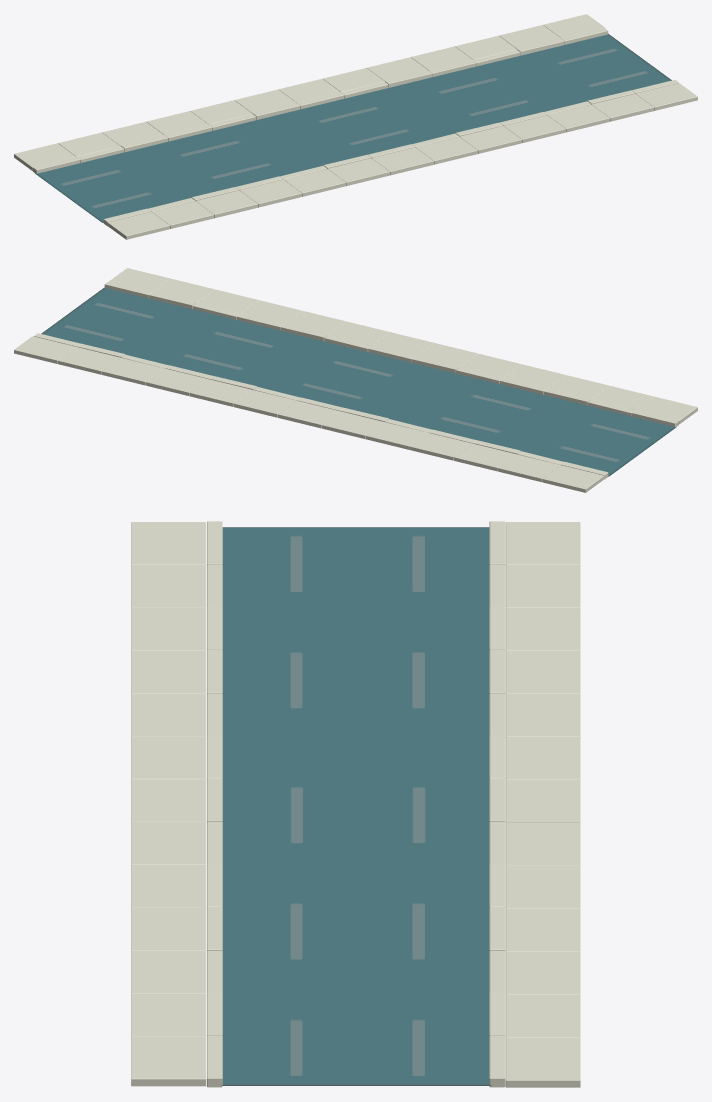
Rendered from Street.fbx.
3 renders of one model, top to bottom at view 1: azimuth 30°, elevation 25°; view 2: azimuth 150°, elevation 25°; view 3: azimuth 270°, elevation 25°, orthographic. The views are drawn at different scales.
Visible parts, largest first — view 1: pPlane1, kaldırım26, kaldırım38, kaldırım40, kaldırım42, kaldırım44, kaldırım46, kaldırım48, kaldırım50, kaldırım28, kaldırım30, kaldırım34 (+22 smaller); view 2: pPlane1, kaldırım3, kaldırım1, kaldırım5, kaldırım9, kaldırım13, kaldırım17, kaldırım6, kaldırım21, kaldırım18, kaldırım10, kaldırım14 (+20 smaller); view 3: pPlane1, kaldırım50, kaldırım24, kaldırım34, kaldırım36, kaldırım48, kaldırım17, kaldırım18, kaldırım21, kaldırım22, kaldırım30, kaldırım32 (+16 smaller).
Part boxes in pixels (x1,y1,x2,y2): pPlane1: (35,34,671,222); kaldırım26: (107,212,169,239); kaldırım38: (372,147,433,175); kaldırım40: (416,136,477,164); kaldırım42: (460,126,521,153); kaldırım44: (504,115,565,142); kaldırım46: (548,104,609,132); kaldırım48: (591,94,653,121); kaldırım50: (636,83,697,110); kaldırım28: (152,201,213,228); kaldırım30: (196,190,257,218); kaldırım34: (284,169,345,196); pPlane1: (41,287,676,476); kaldırım3: (542,465,604,492); kaldırım1: (498,454,560,482); kaldırım5: (410,433,472,460); kaldırım9: (322,411,384,439); kaldırım13: (234,390,295,417); kaldırım17: (146,368,208,396); kaldırım6: (454,443,515,471); kaldırım21: (58,347,119,374); kaldırım18: (190,379,251,406); kaldırım10: (366,422,427,449); kaldırım14: (278,400,339,428); pPlane1: (222,527,491,1085); kaldırım50: (131,1036,206,1086); kaldırım24: (505,1037,580,1087); kaldırım34: (131,693,206,736); kaldırım36: (131,736,206,779); kaldırım48: (131,993,206,1036); kaldırım17: (505,908,580,951); kaldırım18: (505,865,580,908); kaldırım21: (505,994,580,1037); kaldırım22: (505,951,580,994); kaldırım30: (131,607,206,650); kaldırım32: (131,650,206,693).
Bounding box in the file's own units: 23.63 × 0.2184 × 8.03.
Materials: 2 (1 with a texture image).
